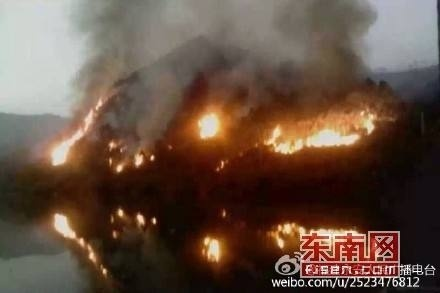fire: (262, 109, 378, 152), (46, 92, 107, 167), (50, 209, 106, 277), (104, 137, 156, 174), (107, 205, 153, 239), (195, 111, 222, 140), (201, 233, 222, 263)
